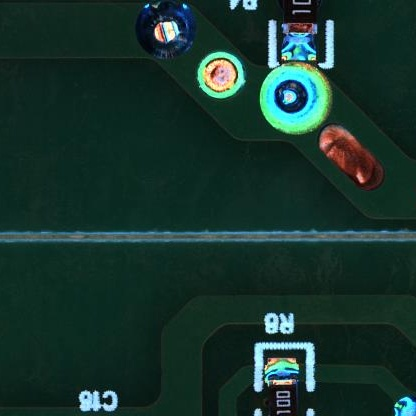spot: (257, 60, 331, 136), (136, 2, 197, 60), (196, 52, 244, 99)
